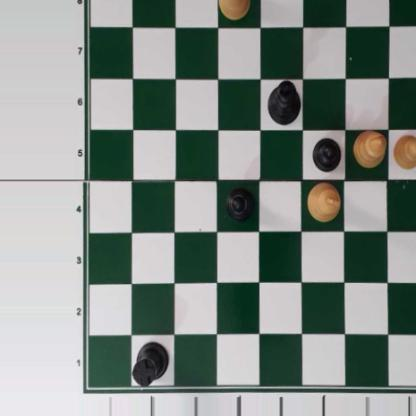black-king: (267, 79, 301, 126)
black-pawn: (311, 134, 340, 172), (225, 185, 252, 221)
black-rook: (132, 343, 169, 387)
white-bishop: (352, 130, 387, 169)
white-king: (308, 180, 341, 222)
white-pawn: (391, 133, 416, 167)
white-rook: (217, 0, 251, 20)
